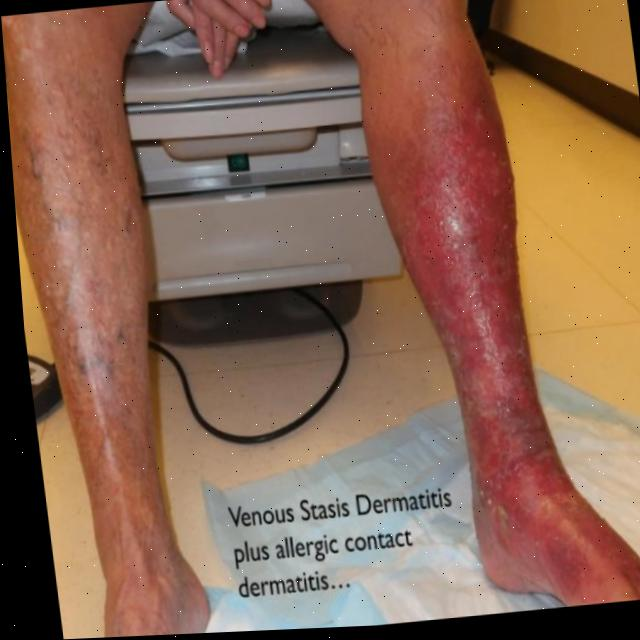Eczema: (375, 57, 615, 615)
